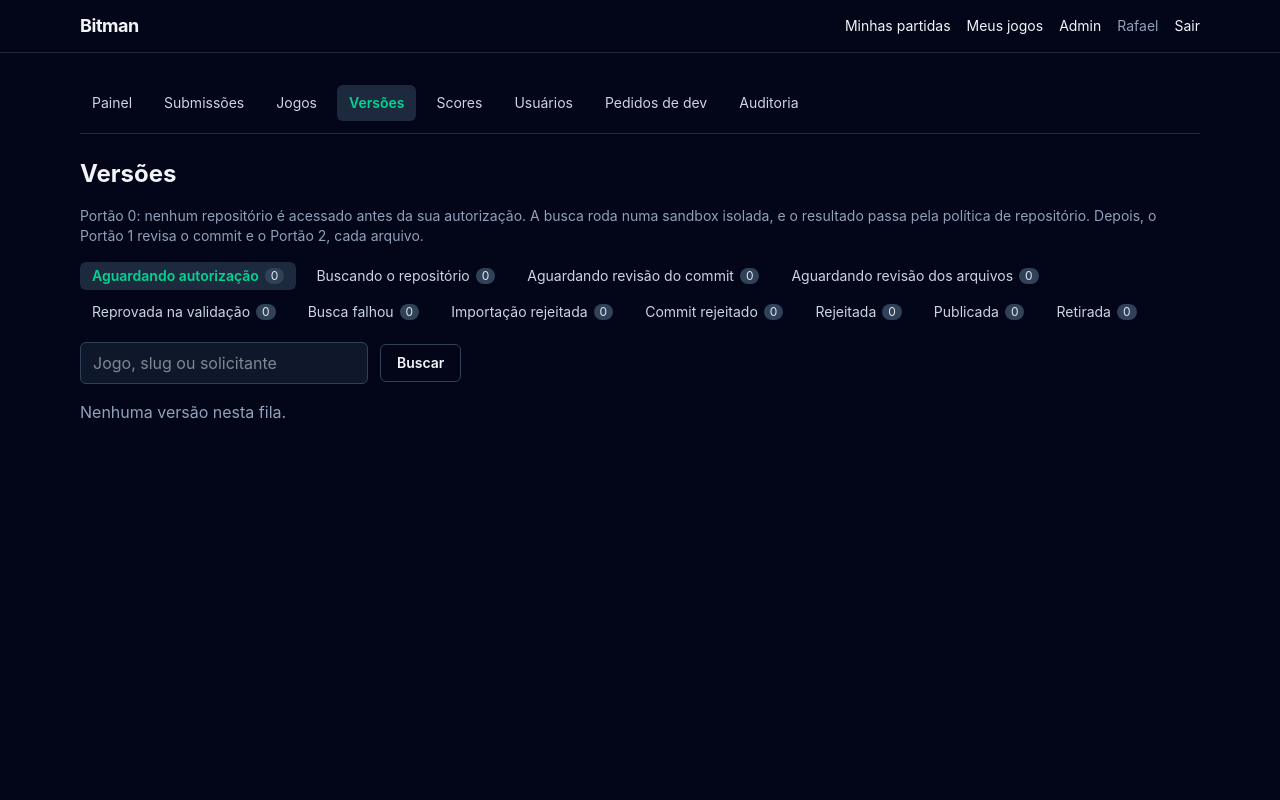
VersionsPage › na fila de falhas mostra o motivo e pede nova importação
Click the tab "Busca falhou 0" at coordinates (363, 312), box x1=296 y1=298 x2=431 y2=326
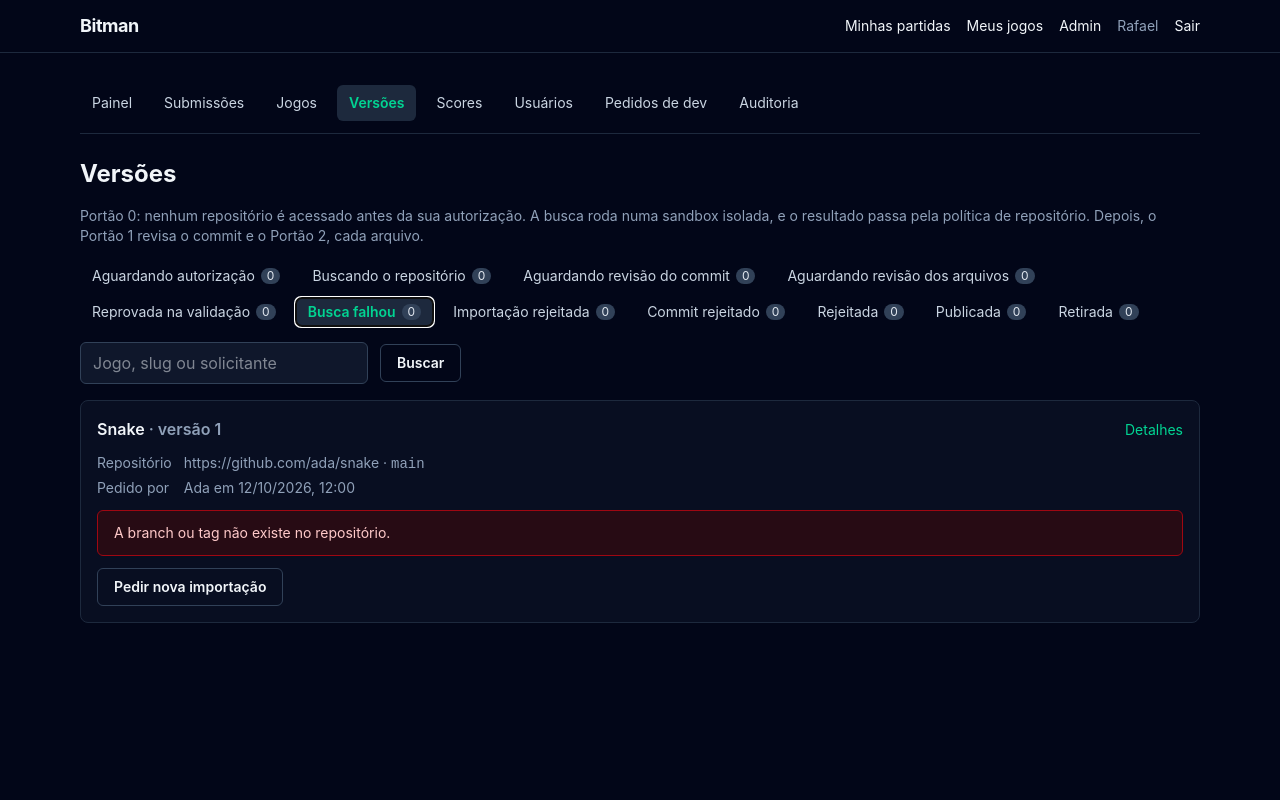
Check: the text "A branch ou tag não existe no repositório." is shown, box x1=97 y1=510 x2=1183 y2=556
Click the button "Pedir nova importação" at coordinates (190, 587), box x1=97 y1=568 x2=283 y2=606
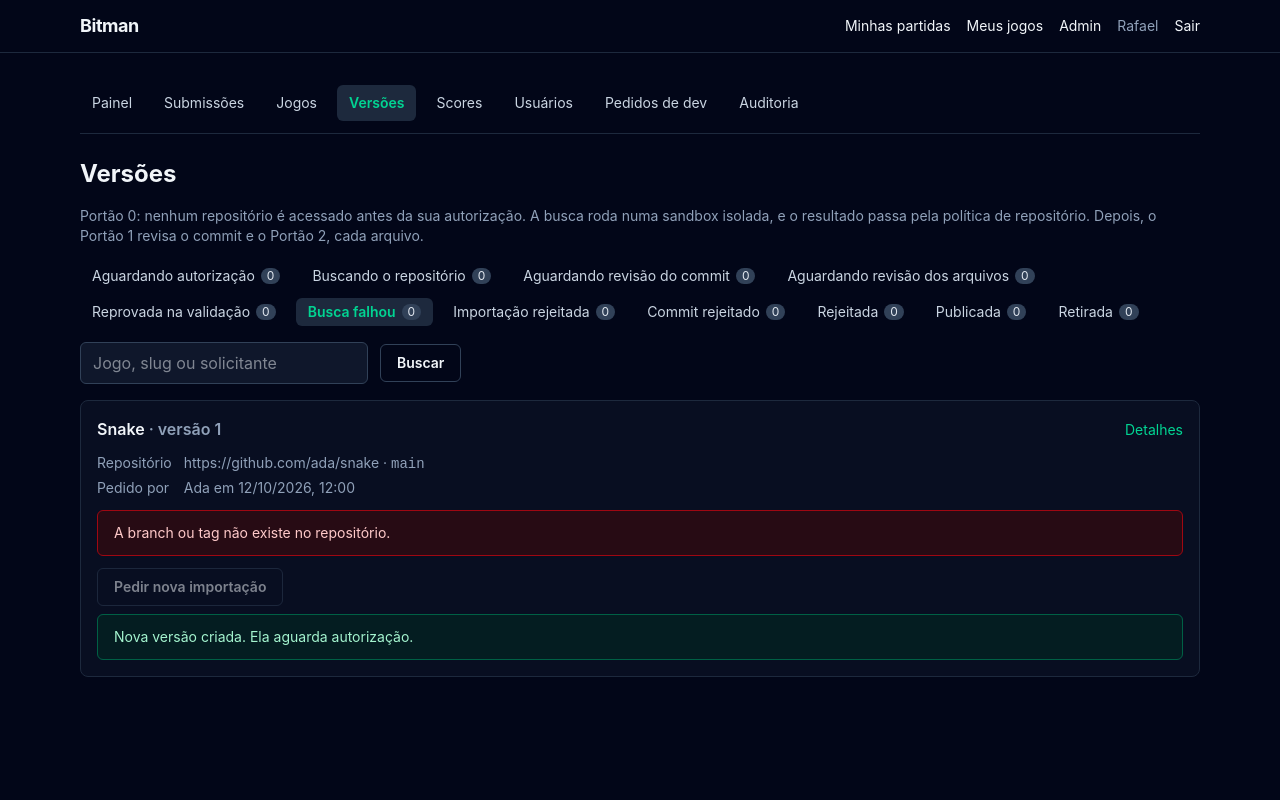
Check: the text "Nova versão criada. Ela aguarda autorização." is shown, box x1=97 y1=614 x2=1183 y2=660
